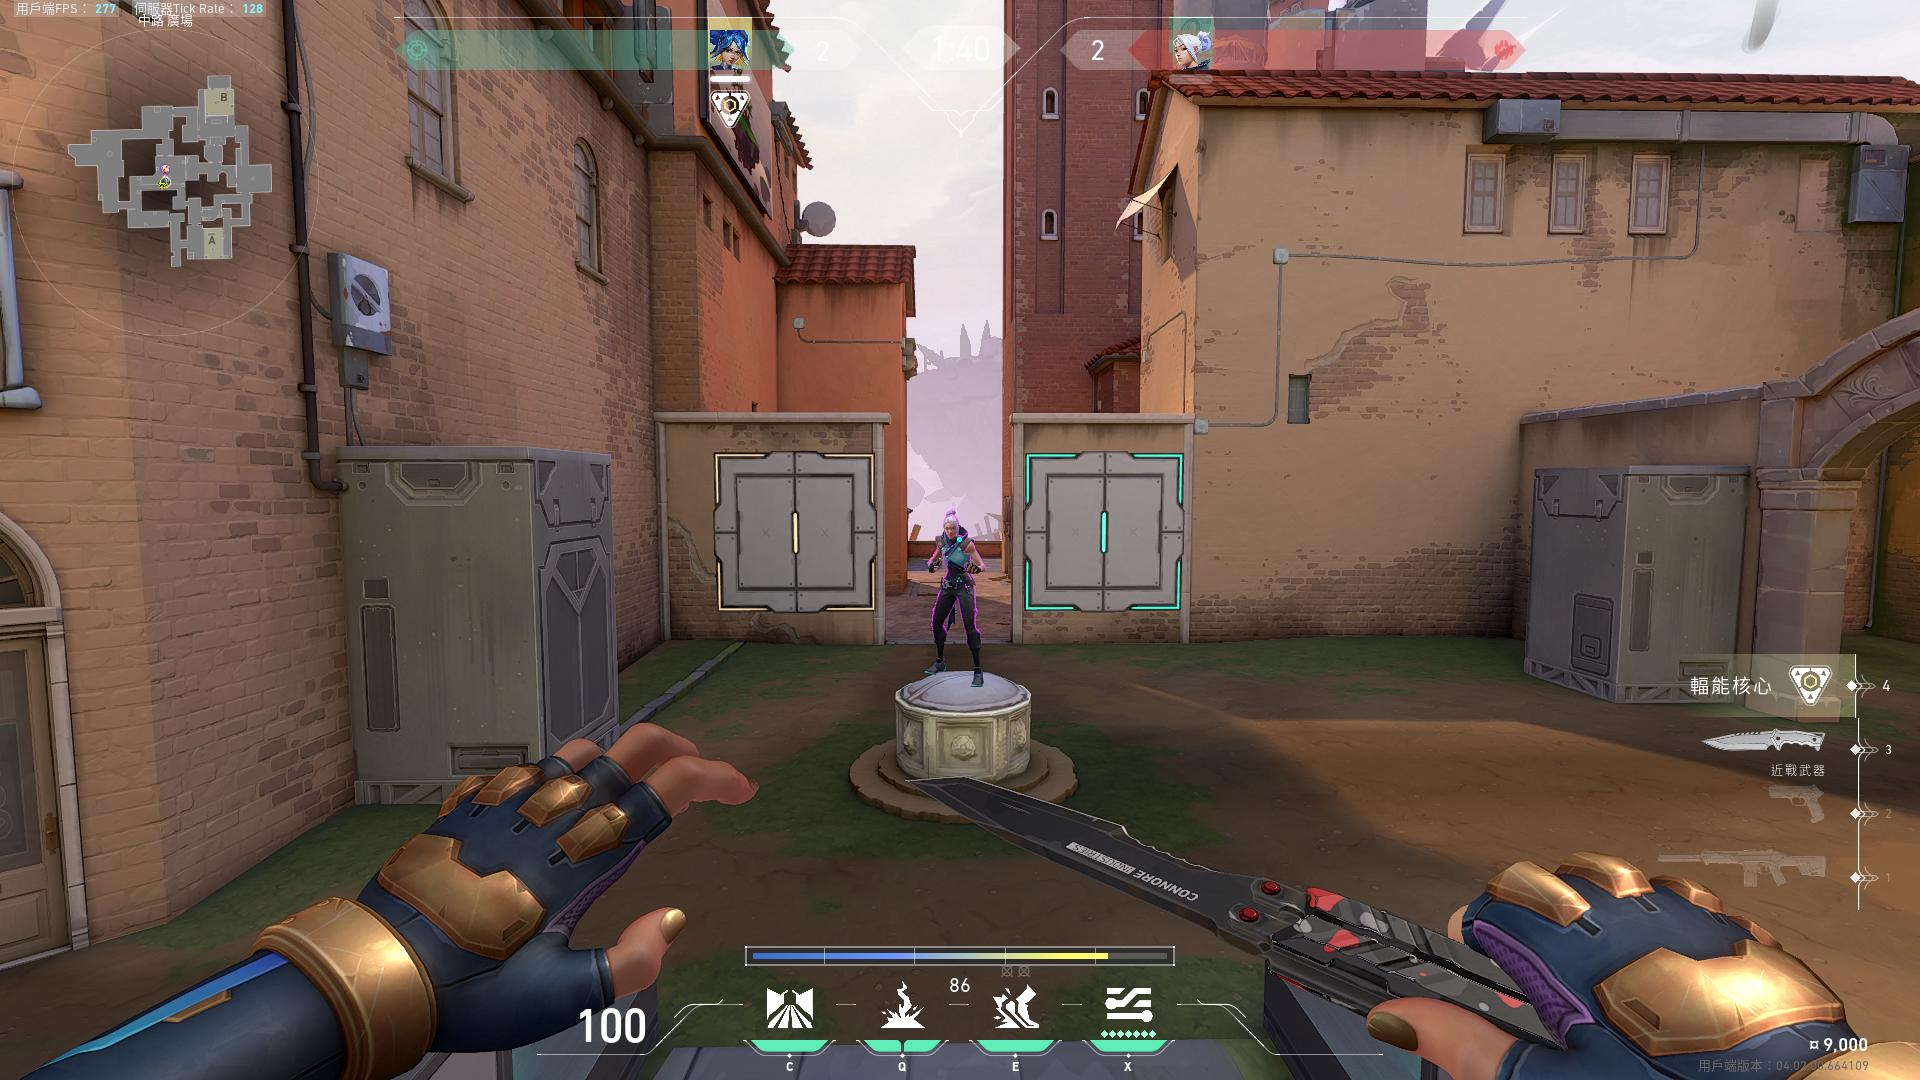enemyBody: (934, 550, 981, 605)
enemyHead: (939, 521, 967, 539)
